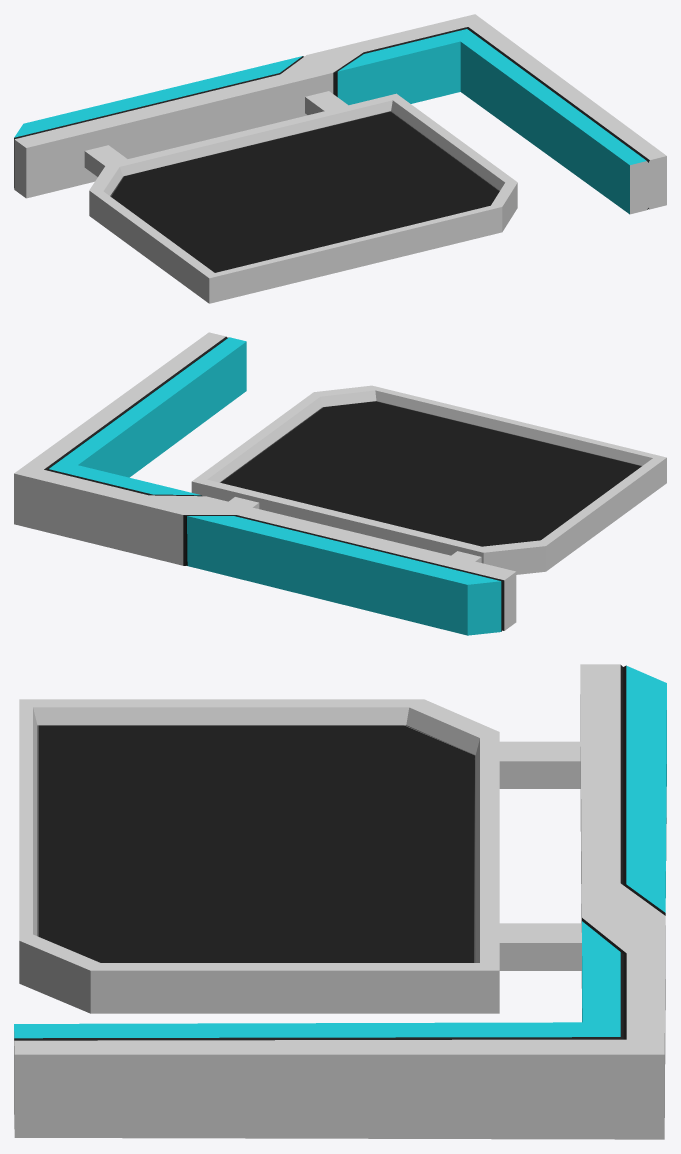
Rendered from Initial_Environment_Signage_Ver1.fbx.
3 renders of one model, top to bottom at view 1: azimuth 30°, elevation 25°; view 2: azimuth 150°, elevation 25°; view 3: azimuth 270°, elevation 25°, orthographic. The views are drawn at different scales.
Visible parts, largest first — view 1: Plane.001, Cube.001; view 2: Plane.001, Cube.001; view 3: Plane.001, Cube.001.
Boxes of the visible parts, x1,y1,x2,y2 form: Plane.001: [89, 93, 517, 303]; Cube.001: [14, 14, 666, 214]; Plane.001: [191, 385, 666, 574]; Cube.001: [14, 332, 516, 635]; Plane.001: [19, 699, 499, 1013]; Cube.001: [14, 664, 666, 1139].
Bounding box in the file's own units: 121 × 12.33 × 85.8.
4 materials, 4 textured.
